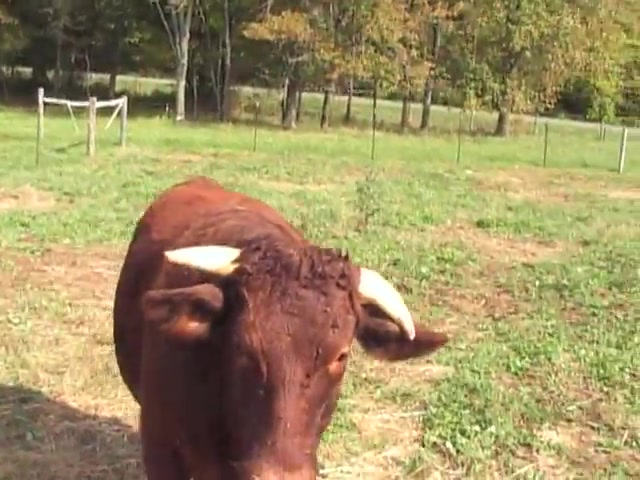cow: (99, 178, 451, 480)
